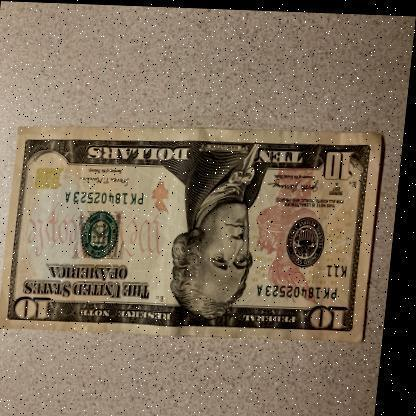ten-front: (1, 116, 388, 341)
